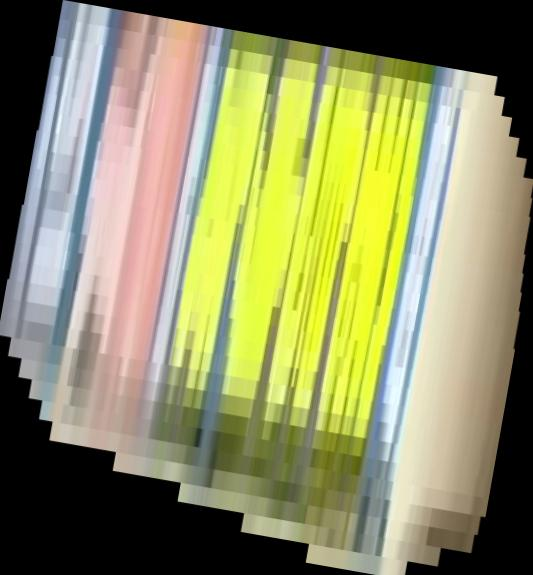flat: (1, 1, 533, 575)
